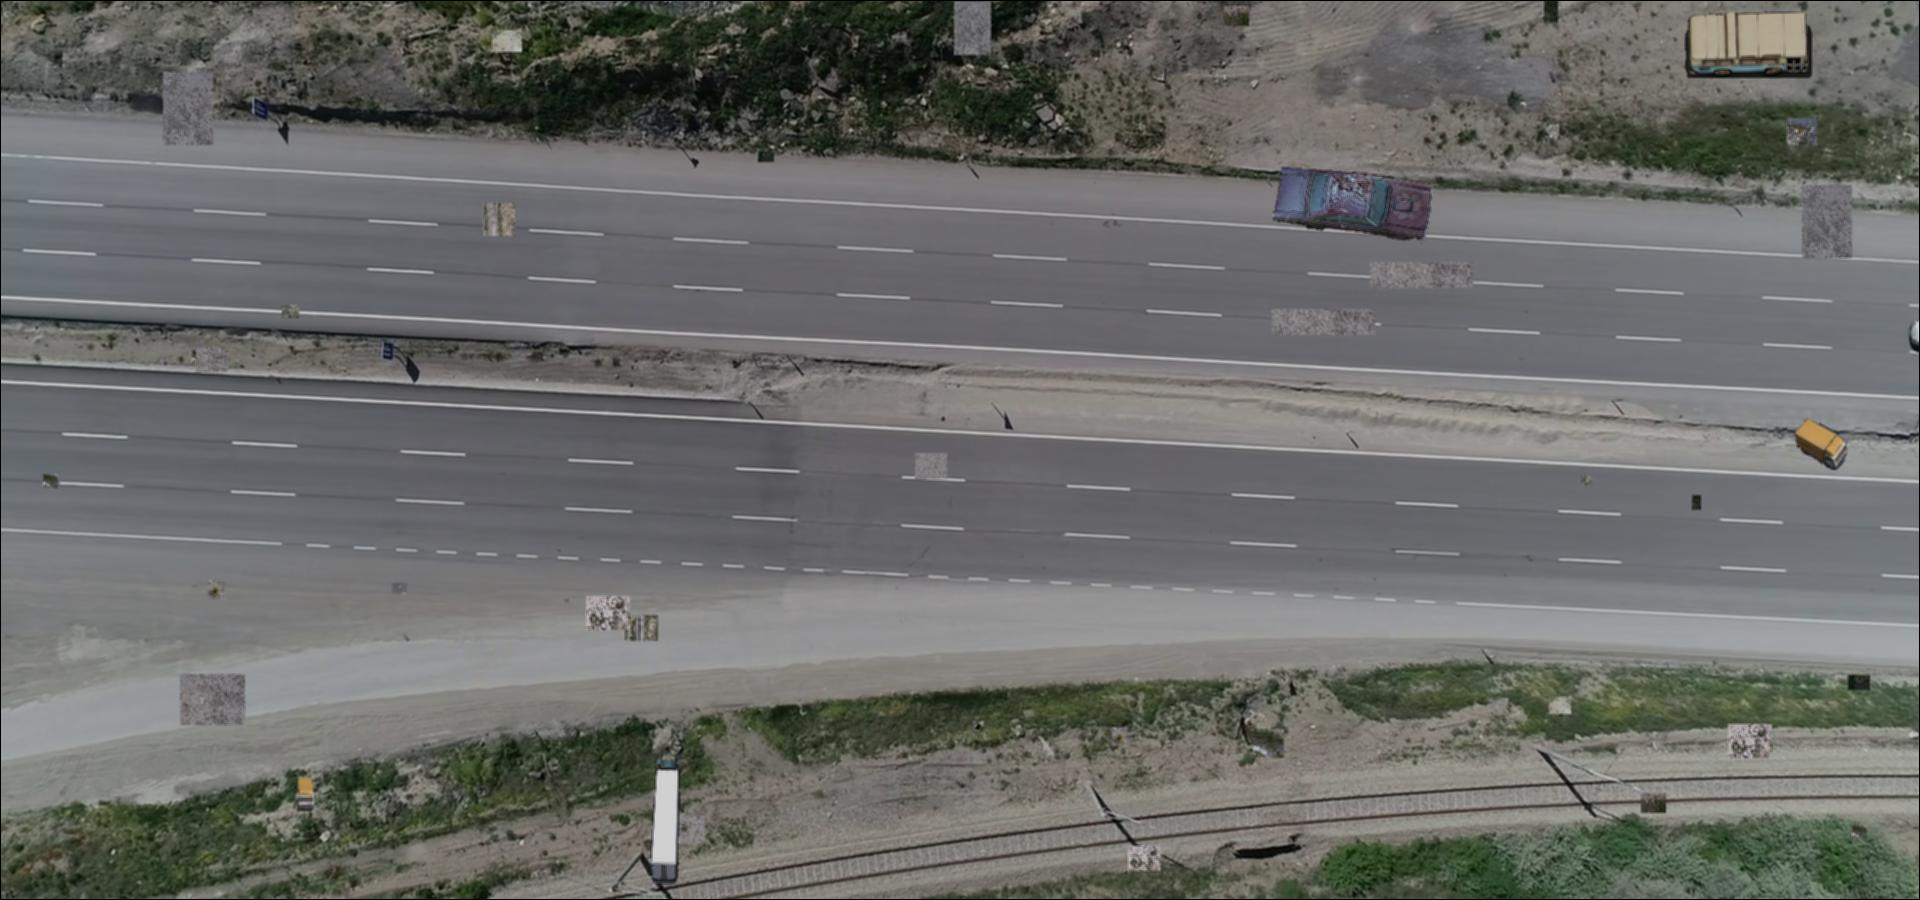arac: (1270, 160, 1434, 246), (1681, 11, 1812, 78), (647, 751, 682, 884), (1794, 416, 1847, 470), (298, 778, 317, 811)
